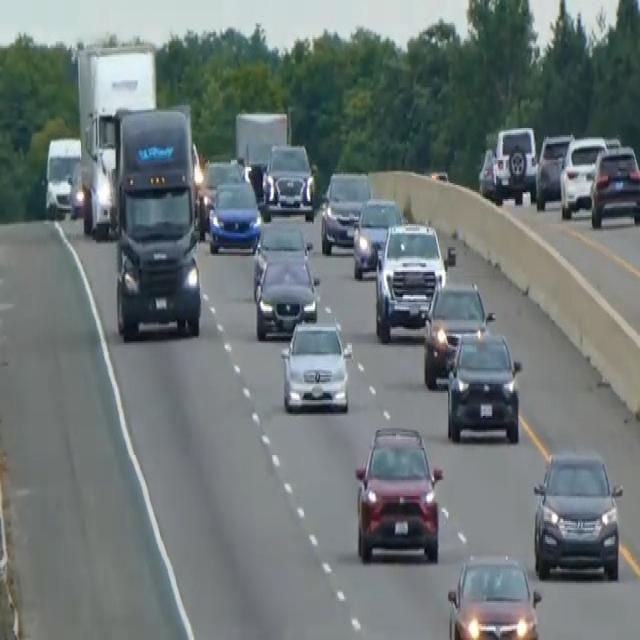car: (353, 422, 443, 564), (532, 448, 623, 581), (373, 219, 448, 341), (445, 327, 521, 443), (446, 551, 542, 638), (422, 278, 491, 388), (279, 316, 352, 412), (254, 250, 320, 340), (251, 219, 312, 297), (320, 169, 371, 254), (261, 140, 315, 220), (589, 142, 639, 228), (558, 133, 608, 219), (352, 196, 403, 279), (207, 176, 261, 252), (492, 122, 537, 202), (197, 155, 243, 233), (535, 132, 573, 210), (477, 146, 500, 201), (68, 162, 84, 218)
lorry: (110, 103, 203, 341)
minibus: (43, 135, 81, 219)
